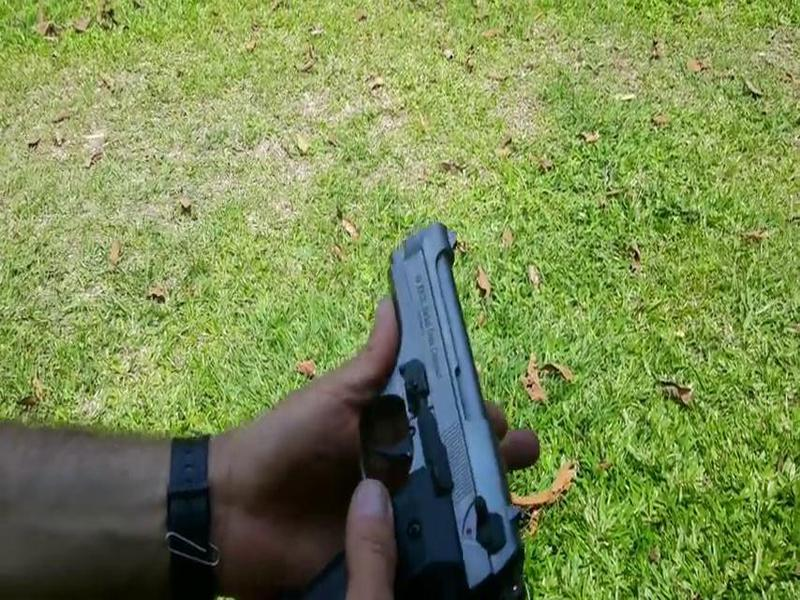Pistola: (278, 198, 548, 584)
